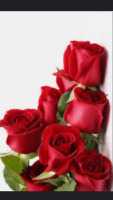RedRose: (58, 32, 109, 91), (36, 121, 85, 177), (66, 82, 107, 138), (2, 101, 42, 152), (73, 140, 112, 190), (32, 79, 65, 125), (16, 159, 61, 190)
